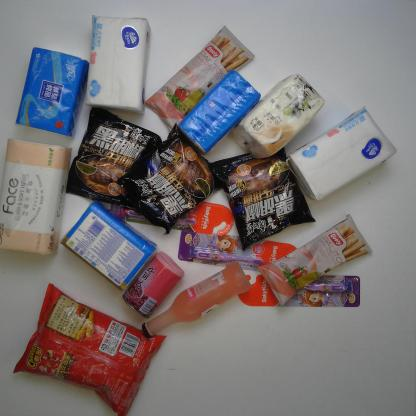Alcohol: (140, 260, 253, 339)
Canned Food: (120, 248, 186, 320)
Dessert: (143, 23, 258, 133), (256, 210, 374, 308)
Instant Noodles: (111, 120, 228, 236), (206, 146, 319, 252), (62, 104, 165, 209)
Personal Hygiene: (176, 228, 298, 273), (109, 197, 235, 239), (235, 272, 361, 310)
Puffed Food: (11, 282, 168, 416)
Tissue: (283, 103, 401, 202), (57, 199, 160, 293), (1, 135, 74, 259), (229, 70, 326, 162), (174, 67, 265, 156), (14, 46, 91, 140), (83, 13, 152, 116)
